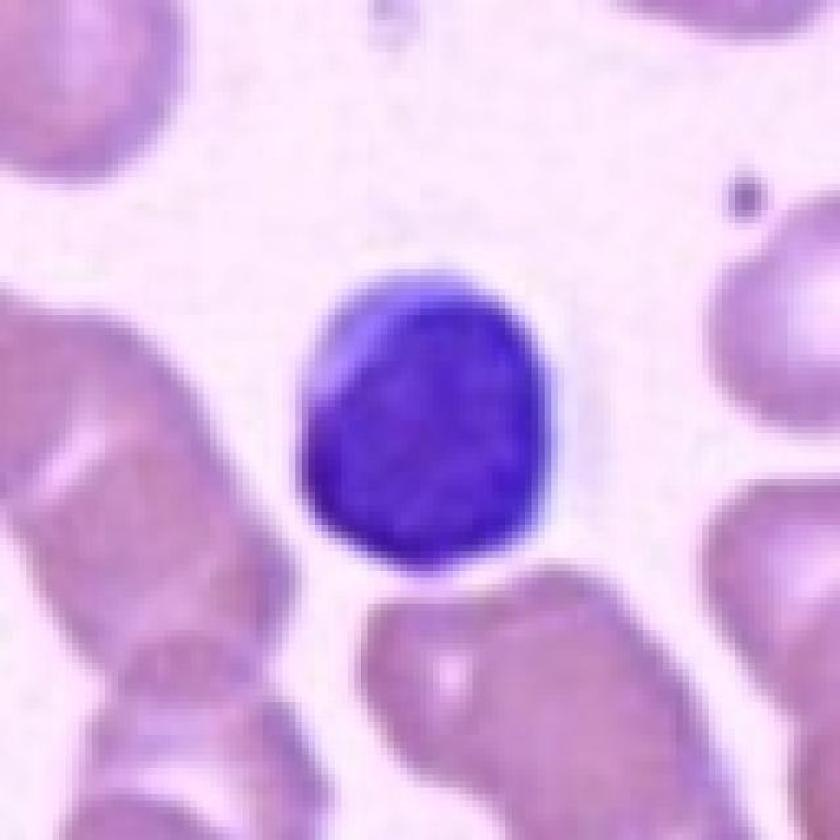lymphocyte: (290, 262, 558, 579)
